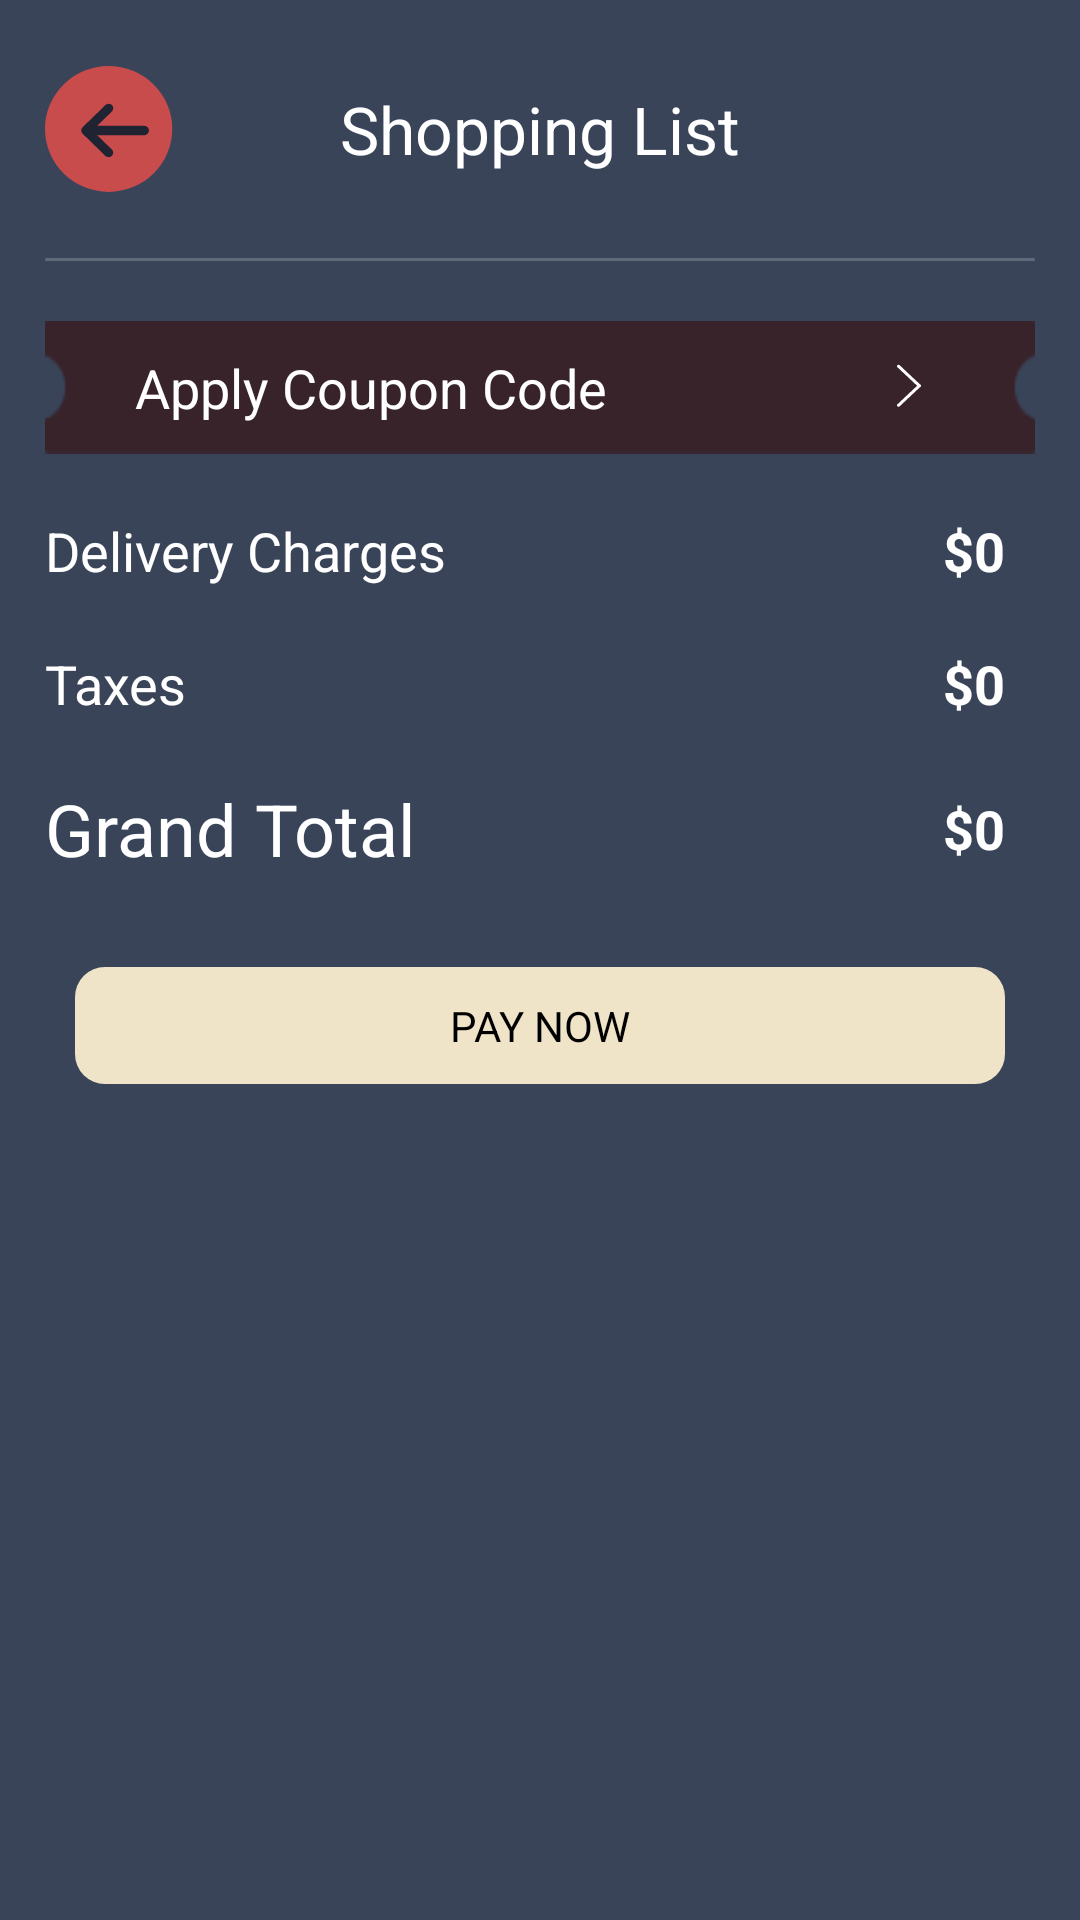

Icon bounding boxes for this 1080px x 1920px phone screenshot, format BBox(x1, y1, x2, y2):
circle arrow left: BBox(45, 66, 173, 192)
